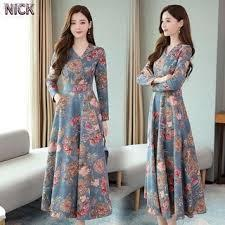dress: (41, 42, 115, 222), (134, 42, 202, 223)
